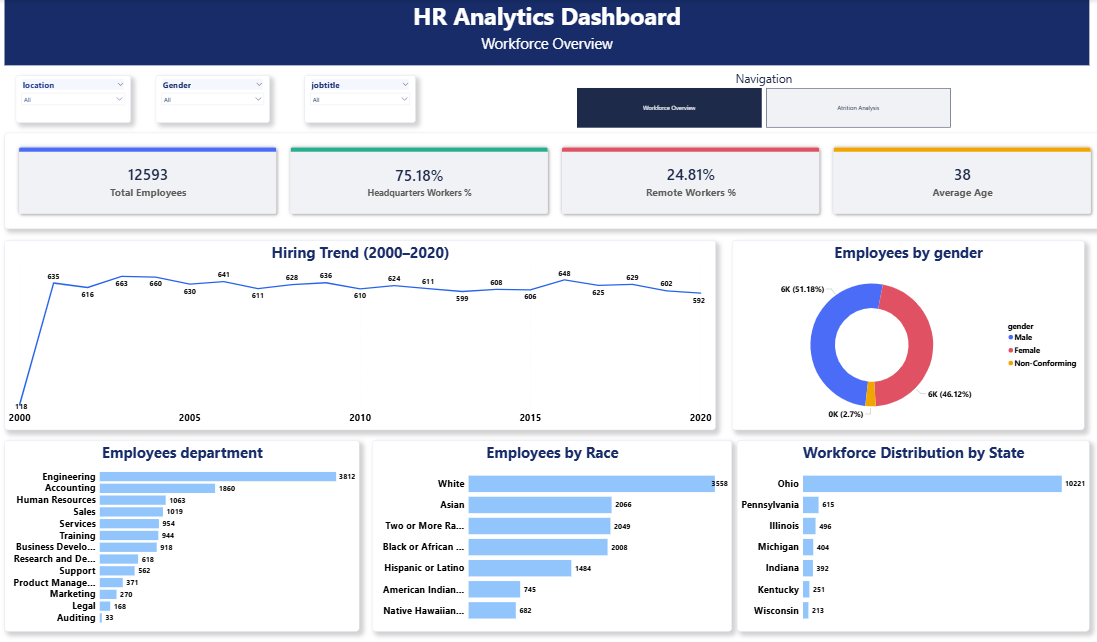

Layout of this report page (visuals, bound fields, positions):
{"tool":"powerbi","page":{"name":"Workforce Overview","canvas":[2500,1450],"ordinal":0},"visuals":[{"type":"cardVisual","fields":{"Data":["HR_analysis (2).Total Employees","HR_analysis (2).Headquarters Workers %","HR_analysis (2).Remote Workers %","HR_analysis (2).Average Age"]},"box":[16.9,301.5,2482.6,217],"z":0},{"type":"lineChart","title":"Hiring Trend (2000–2020)","fields":{"Category":["HR_analysis (2).hire_year"],"Y":["HR_analysis (2).Total Employees"]},"box":[16.9,543.9,1603.4,428.3],"z":1000},{"type":"donutChart","title":" Employees by gender","fields":{"Category":["HR_analysis (2).gender"],"Y":["HR_analysis (2).Total Employees"]},"box":[1656.9,543.9,794.6,428.3],"z":2000},{"type":"barChart","title":"Employees department","fields":{"Y":["HR_analysis (2).Total Employees"],"Category":["HR_analysis (2).department"]},"box":[16.9,994.7,800.3,431.1],"z":3000},{"type":"barChart","title":"Employees by Race","fields":{"Y":["HR_analysis (2).Total Employees"],"Category":["HR_analysis (2).race"]},"box":[845.4,994.7,811.6,431.1],"z":4000},{"type":"barChart","title":"Workforce Distribution by State","fields":{"Category":["HR_analysis (2).location_state"],"Y":["HR_analysis (2).Total Employees"]},"box":[1668.2,994.7,794.6,431.1],"z":5000},{"type":"textbox","title":"HR Analytics Dashboard","box":[16.9,0,2445.9,149.3],"z":5500},{"type":"slicer","fields":{"Values":["HR_analysis (2).jobtitle"]},"box":[693.2,171.9,250.8,107.1],"z":6000},{"type":"slicer","fields":{"Values":["HR_analysis (2).race"]},"box":[357.9,171.9,256.4,107.1],"z":7000},{"type":"slicer","fields":{"Values":["HR_analysis (2).race"]},"box":[42.3,171.9,259.2,107.1],"z":9000},{"type":"pageNavigator","title":"Navigation","box":[1394.9,149.3,842.6,129.6],"z":9001}]}

Visuals, with their boxes in screenshot pixels (x1, y1, x2, y2), scaled from the page's 2500x1450 canvas onto the 1097x642 screenshot:
cardVisual - HR_analysis (2).Total Employees x HR_analysis (2).Headquarters Workers %: box(7, 133, 1096, 230)
"Hiring Trend (2000–2020)" lineChart: box(7, 241, 711, 430)
" Employees by gender" donutChart: box(727, 241, 1076, 430)
"Employees department" barChart: box(7, 440, 359, 631)
"Employees by Race" barChart: box(371, 440, 727, 631)
"Workforce Distribution by State" barChart: box(732, 440, 1081, 631)
"HR Analytics Dashboard" textbox: box(7, 0, 1081, 66)
slicer - HR_analysis (2).jobtitle: box(304, 76, 414, 124)
slicer - HR_analysis (2).race: box(157, 76, 270, 124)
slicer - HR_analysis (2).race: box(19, 76, 132, 124)
"Navigation" pageNavigator: box(612, 66, 982, 123)
